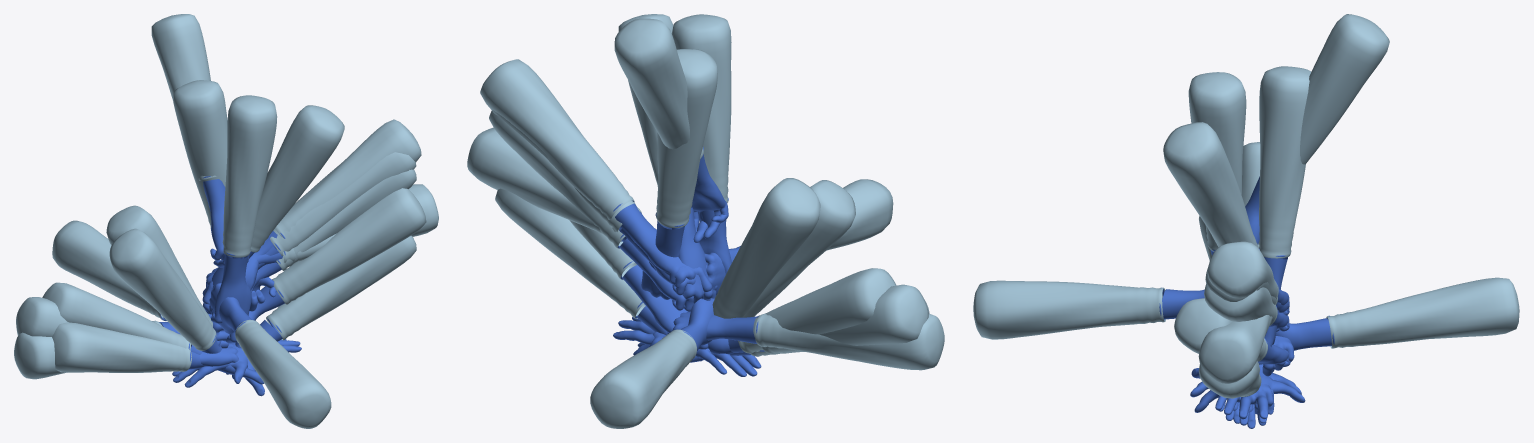
File: hands.glb
3 views of the same model, side by side, from view 1: azimuth 30°, elevation 25°; view 2: azimuth 150°, elevation 25°; view 3: azimuth 270°, elevation 25° (orthographic). The views are drawn at different scales.
Parts seen in each view (by area): view 1: hand_syringe, hand_ett, hand_scalpel, hand_cprTop, hand_pressL, hand_chestDrain, hand_defibPadRight, hand_laryngoscope, hand_forcepsGauze, hand_bougie, hand_usProbe, hand_press (+6 smaller); view 2: hand_bougie, hand_forcepsGauze, hand_cprBottom, hand_laryngoscope, hand_usProbe, hand_defibPadRight, hand_faceMask, hand_syringe, hand_press, hand_needle14G, hand_stethoscope, hand_cprTop (+5 smaller); view 3: hand_usProbe, hand_chestDrain, hand_laryngoscope, hand_forcepsGauze, hand_scalpel, hand_syringe, hand_needle14G, hand_bougie, hand_ett, hand_cprBottom, hand_ivCannula, hand_defibPadRight (+2 smaller).
Boxes of the visible parts, x1,y1,x2,y2 form: hand_syringe: [211, 95, 277, 342]; hand_ett: [235, 188, 426, 348]; hand_scalpel: [202, 105, 344, 314]; hand_cprTop: [109, 228, 264, 396]; hand_pressL: [52, 322, 264, 384]; hand_chestDrain: [209, 283, 331, 428]; hand_defibPadRight: [172, 235, 416, 387]; hand_laryngoscope: [173, 80, 276, 311]; hand_forcepsGauze: [151, 14, 249, 267]; hand_bougie: [212, 119, 421, 290]; hand_usProbe: [52, 220, 229, 348]; hand_press: [42, 282, 202, 355]; hand_bougie: [480, 59, 686, 283]; hand_forcepsGauze: [614, 18, 728, 242]; hand_cprBottom: [613, 178, 820, 344]; hand_laryngoscope: [641, 49, 717, 299]; hand_usProbe: [590, 298, 714, 428]; hand_defibPadRight: [495, 188, 761, 376]; hand_faceMask: [667, 311, 944, 370]; hand_syringe: [671, 14, 731, 274]; hand_press: [633, 268, 896, 362]; hand_needle14G: [467, 127, 712, 291]; hand_stethoscope: [700, 284, 928, 361]; hand_cprTop: [649, 180, 855, 346]; hand_usProbe: [1276, 277, 1519, 350]; hand_chestDrain: [973, 280, 1204, 339]; hand_laryngoscope: [1259, 66, 1311, 346]; hand_forcepsGauze: [1245, 14, 1389, 244]; hand_scalpel: [1163, 122, 1259, 249]; hand_syringe: [1188, 72, 1246, 255]; hand_needle14G: [1198, 297, 1289, 383]; hand_bougie: [1207, 241, 1289, 307]; hand_ett: [1174, 298, 1290, 369]; hand_cprBottom: [1215, 142, 1305, 419]; hand_ivCannula: [1204, 284, 1289, 331]; hand_defibPadRight: [1191, 361, 1274, 398].
Bounding box in the file's own units: 0.9694 × 0.7672 × 0.9848.
